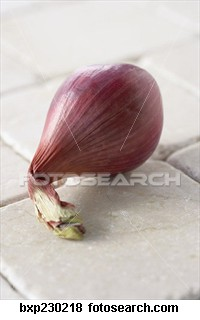onion: (24, 61, 166, 242)
